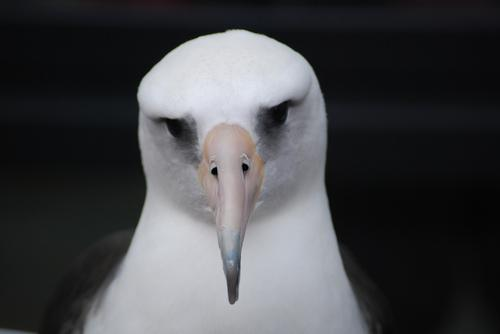002.Laysan_Albatross: (45, 29, 396, 334)
